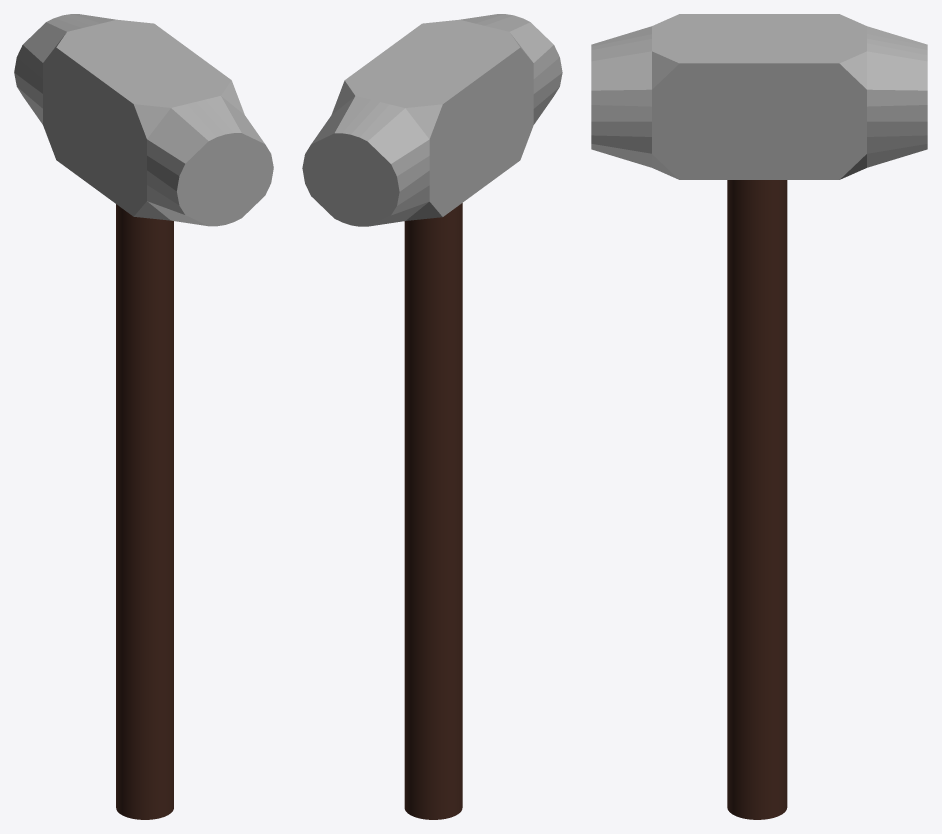
The model's file is Sledgehammer.fbx.
3 views of the same model, side by side, from view 1: azimuth 30°, elevation 25°; view 2: azimuth 150°, elevation 25°; view 3: azimuth 270°, elevation 25° (orthographic). The views are drawn at different scales.
Parts seen in each view (by area): view 1: Cube, Cylinder; view 2: Cube, Cylinder; view 3: Cube, Cylinder.
Boxes of the visible parts, x1,y1,x2,y2 form: Cube: (14,14,273,226); Cylinder: (116,204,173,819); Cube: (302,14,562,226); Cylinder: (404,203,462,819); Cube: (591,14,927,179); Cylinder: (727,180,787,819).
Bounding box in the file's own units: 28.92 × 209 × 83.09.
